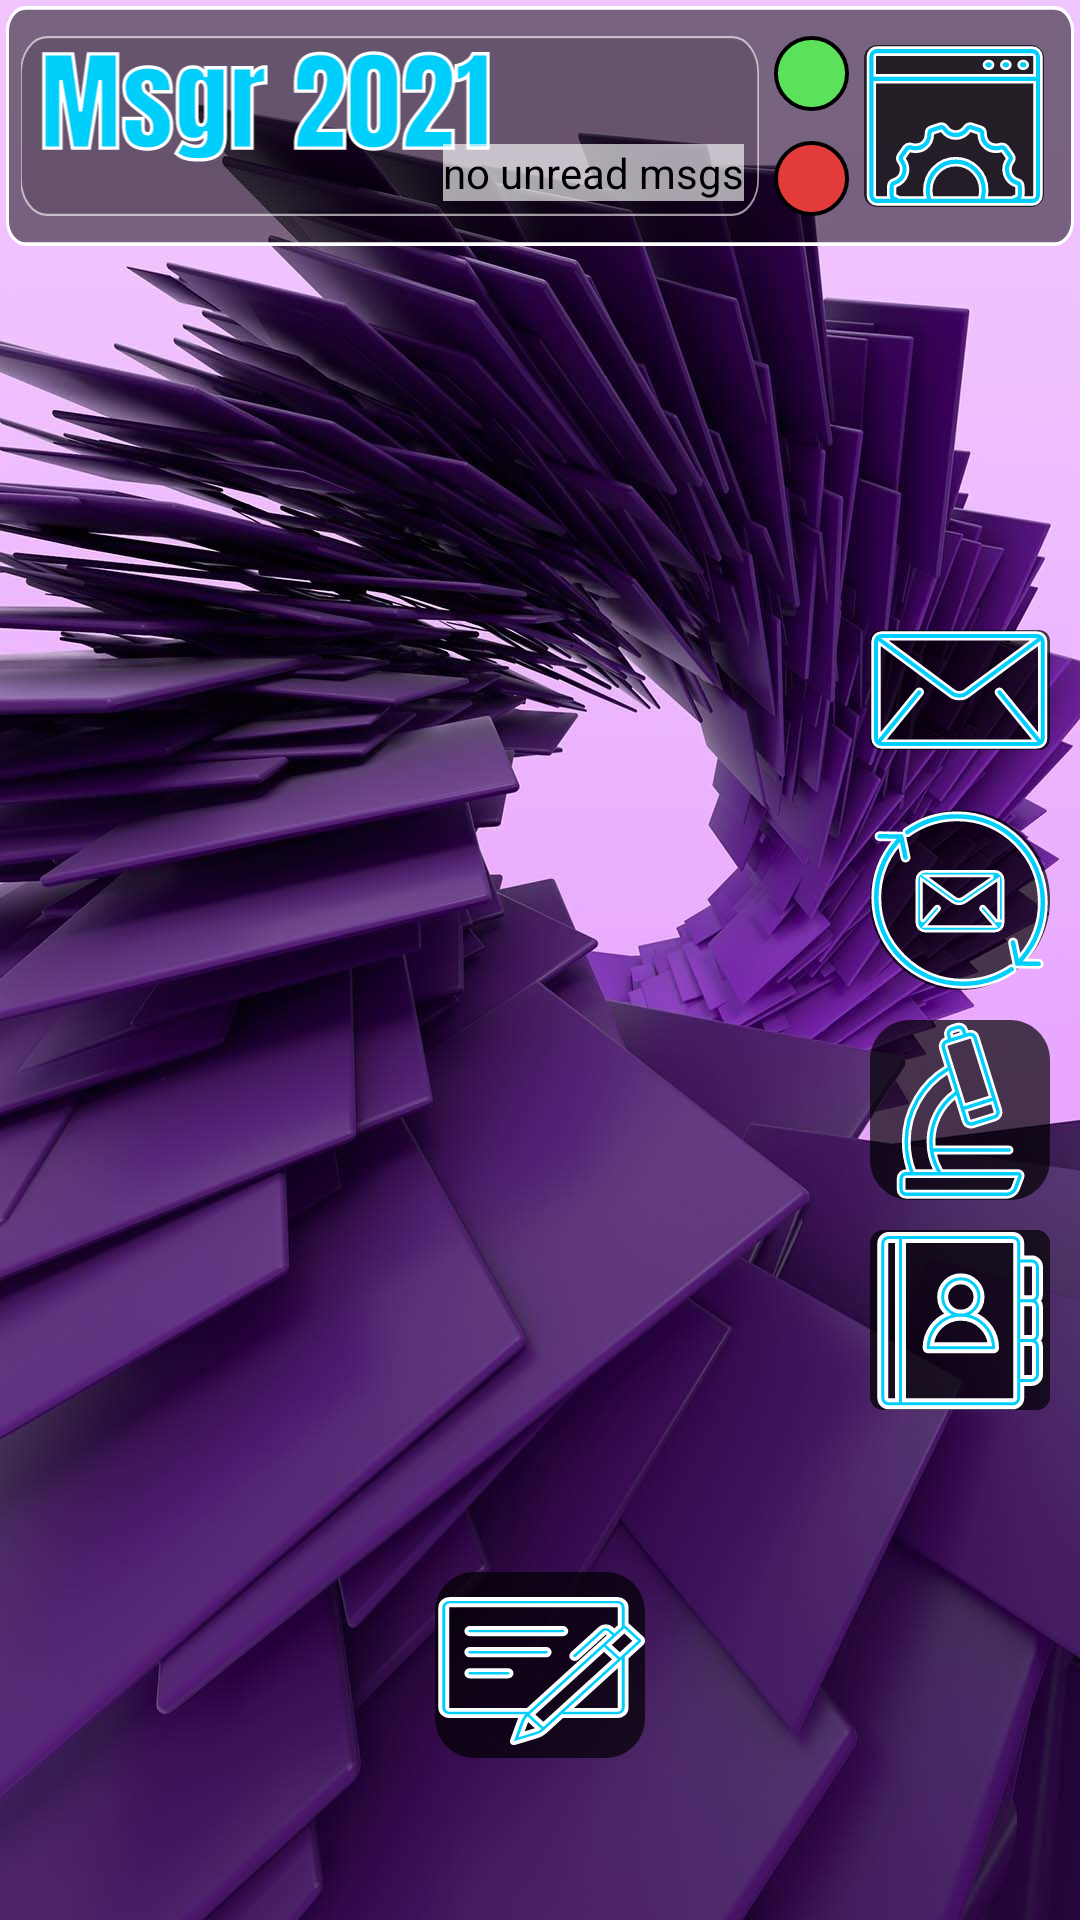

Screen size 1080 × 1920. Icon name, then its center in pixels as (x,y):
contact book: (960,1320)
refresh: (960,900)
system: (954,126)
